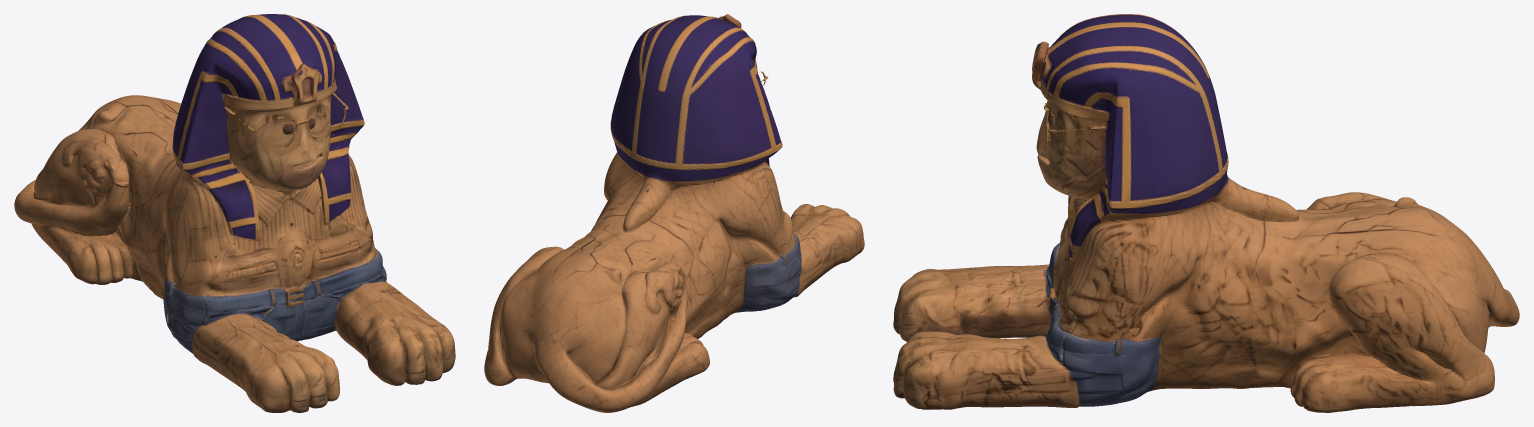
Rendered from sphinx.glb.
3 views of the same model, side by side, from view 1: azimuth 30°, elevation 25°; view 2: azimuth 150°, elevation 25°; view 3: azimuth 270°, elevation 25° (orthographic). The views are drawn at different scales.
Visible parts, largest first — view 1: temp; view 2: temp; view 3: temp.
Part boxes in pixels (x1,y1,x2,y2): temp: (14,14,455,412); temp: (484,14,864,412); temp: (893,14,1519,412).
Bounding box in the file's own units: 0.6818 × 0.9524 × 1.62.
1 material, 1 textured.
